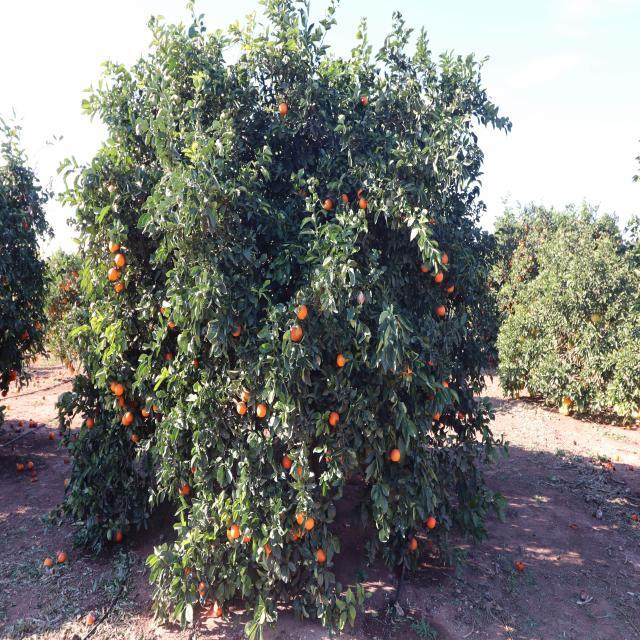Jeruk Sudah Matang: (294, 302, 311, 326), (288, 323, 304, 346), (177, 472, 190, 498), (254, 401, 270, 422), (406, 534, 421, 556), (260, 542, 278, 560), (230, 320, 244, 340), (280, 454, 295, 472), (358, 90, 371, 110), (390, 446, 404, 464), (114, 280, 128, 297), (114, 381, 128, 398), (198, 578, 208, 600), (231, 524, 243, 542), (130, 432, 144, 447), (338, 192, 352, 206), (108, 240, 122, 254), (420, 260, 432, 276), (296, 510, 308, 526), (84, 416, 98, 429), (426, 515, 439, 529), (444, 280, 458, 293), (124, 410, 134, 428), (314, 550, 326, 565), (330, 412, 342, 426), (140, 406, 151, 421), (324, 198, 334, 214), (236, 403, 248, 416), (276, 104, 290, 115), (114, 255, 125, 269), (360, 197, 370, 212), (338, 354, 348, 369), (166, 319, 176, 334), (106, 269, 118, 281), (438, 304, 448, 318), (305, 518, 315, 532), (436, 272, 446, 282), (120, 415, 128, 427), (440, 253, 452, 260)
